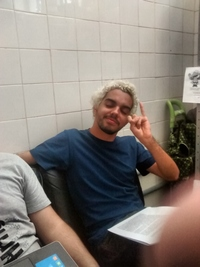oi: (128, 101, 152, 142)
